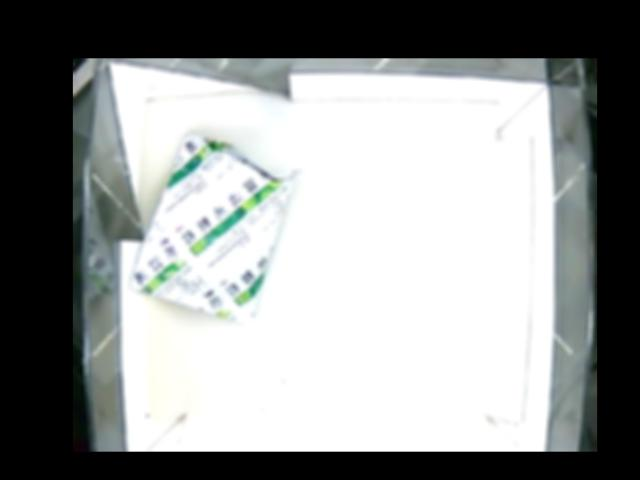Medicine: (130, 128, 305, 327)
